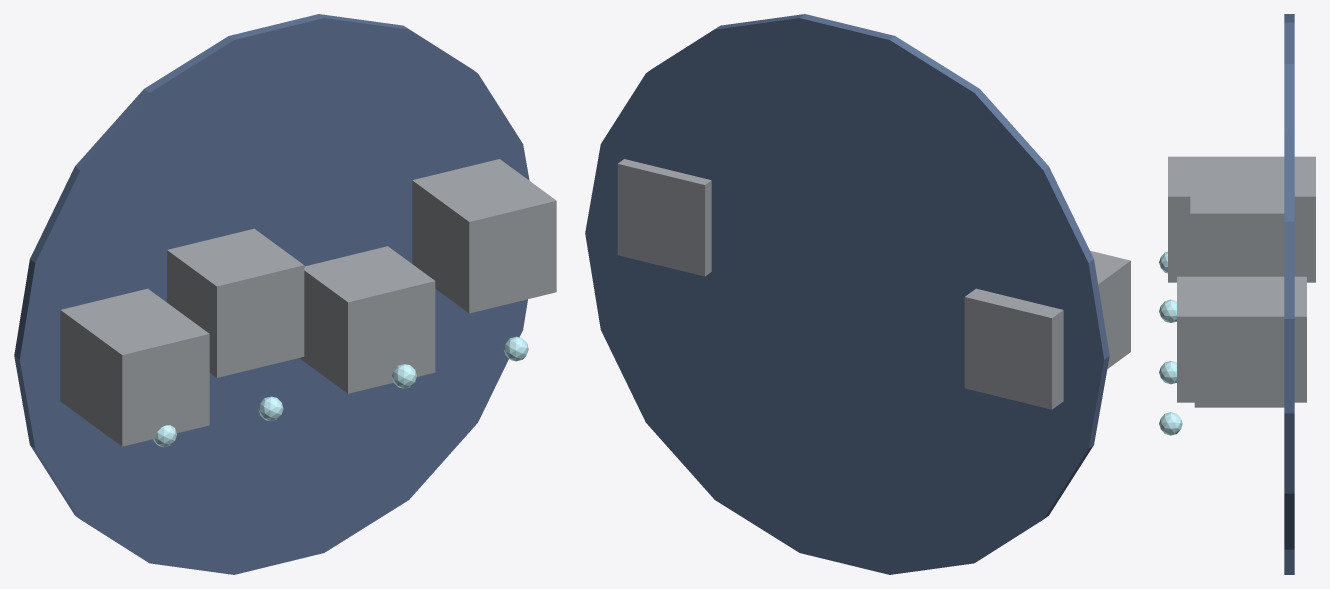
The model's file is 02_display_prop_cluster.glb.
3 views of the same model, side by side, from view 1: azimuth 30°, elevation 25°; view 2: azimuth 150°, elevation 25°; view 3: azimuth 270°, elevation 25° (orthographic). The views are drawn at different scales.
Visible parts, largest first — view 1: scatter_base, tech_crate_0, tech_crate_3, tech_crate_2, tech_crate_1; view 2: scatter_base, tech_crate_0, tech_crate_3; view 3: tech_crate_3, tech_crate_1, tech_crate_0, scatter_base, tech_crate_2, status_light_3, status_light_1, status_light_2.
Part boxes in pixels (x1=…): scatter_base: x1=14, y1=14, x2=529, y2=574; tech_crate_0: x1=60, y1=288, x2=209, y2=446; tech_crate_3: x1=412, y1=159, x2=556, y2=313; tech_crate_2: x1=300, y1=246, x2=435, y2=393; tech_crate_1: x1=167, y1=228, x2=304, y2=377; scatter_base: x1=585, y1=14, x2=1109, y2=574; tech_crate_0: x1=964, y1=250, x2=1130, y2=409; tech_crate_3: x1=617, y1=159, x2=711, y2=276; tech_crate_3: x1=1177, y1=276, x2=1306, y2=402; tech_crate_1: x1=1190, y1=173, x2=1284, y2=276; tech_crate_0: x1=1168, y1=156, x2=1315, y2=282; scatter_base: x1=1284, y1=14, x2=1294, y2=574; tech_crate_2: x1=1194, y1=402, x2=1284, y2=407; status_light_3: x1=1159, y1=412, x2=1182, y2=435; status_light_1: x1=1159, y1=299, x2=1176, y2=322; status_light_2: x1=1159, y1=361, x2=1176, y2=384.
Bounding box in the file's own units: 1.9 × 1.87 × 0.5295.
